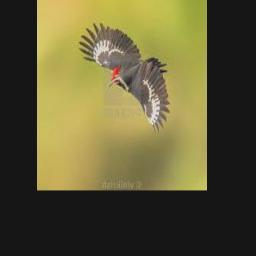Woodpecker: (78, 22, 170, 133)
